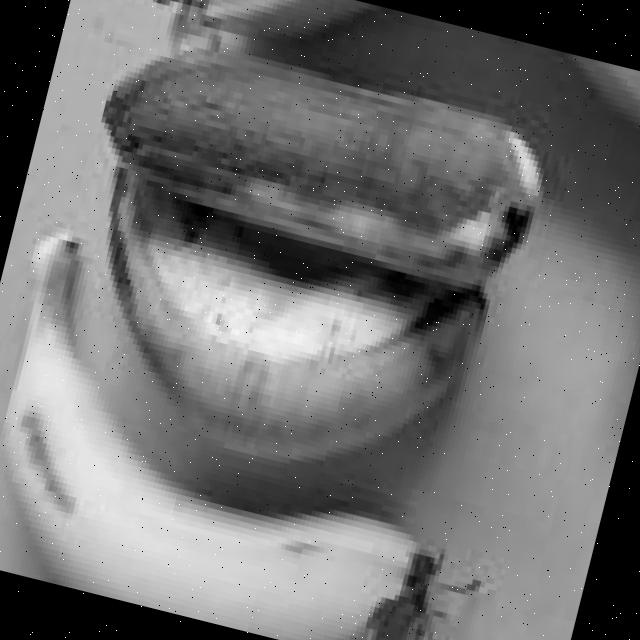Bad_Banana-0 day: (102, 54, 538, 285)
Good_Banana-2-3 days: (5, 238, 422, 640)
